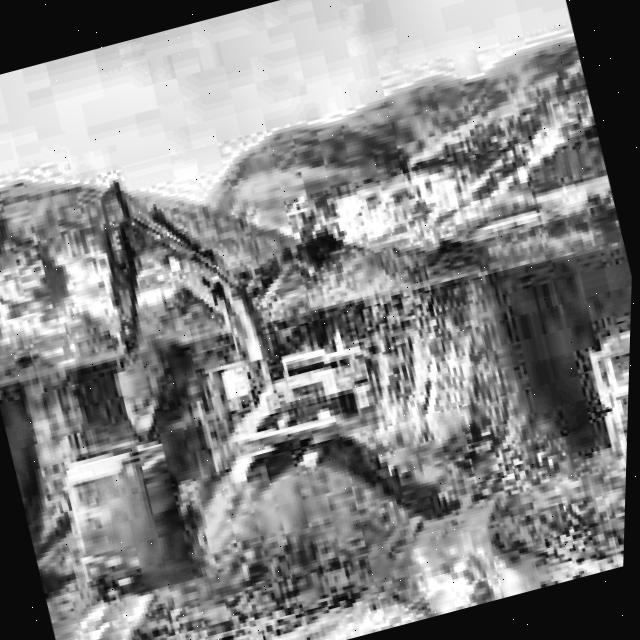dump_truck: (50, 420, 198, 604), (579, 323, 632, 471)
excavator: (55, 124, 396, 518)
